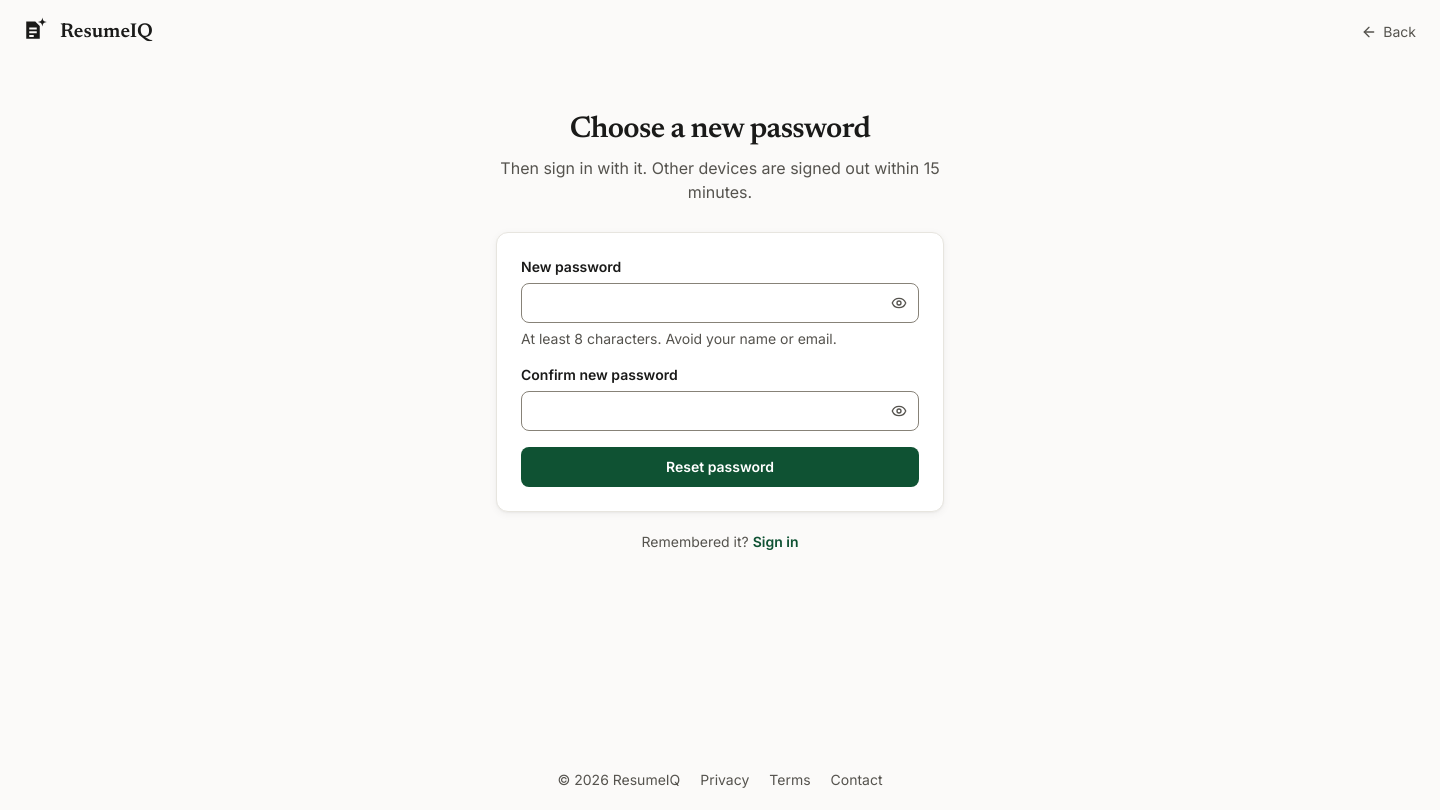
Test: ResetPasswordPage › shows the invalid-link state when the server rejects the link
Type "brand-New-pass-42" into the password field labelled "New password". click: [720, 303]
box: [521,283,919,323]
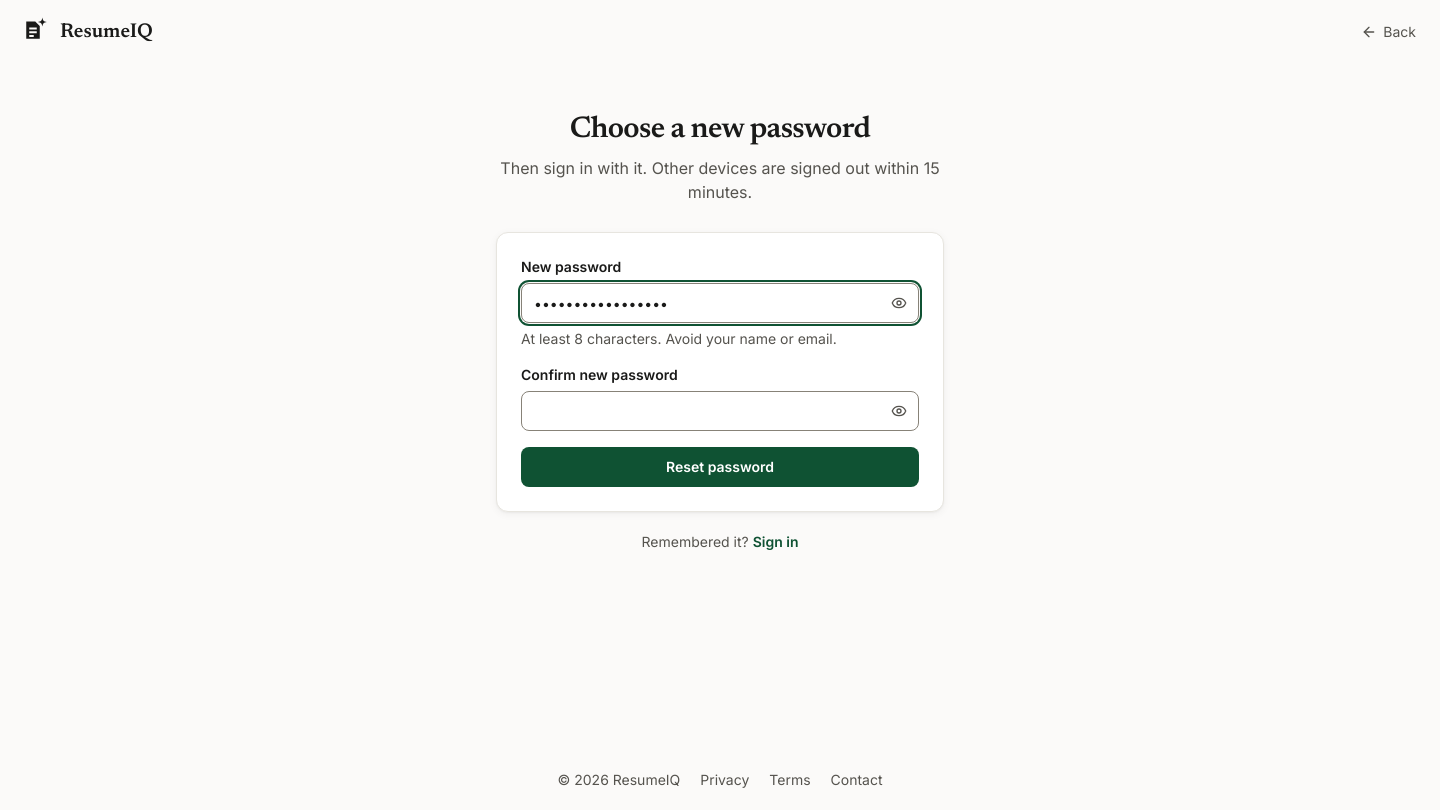
Type "brand-New-pass-42" into the password field labelled "Confirm new password". click: [720, 411]
box: [521,391,919,431]
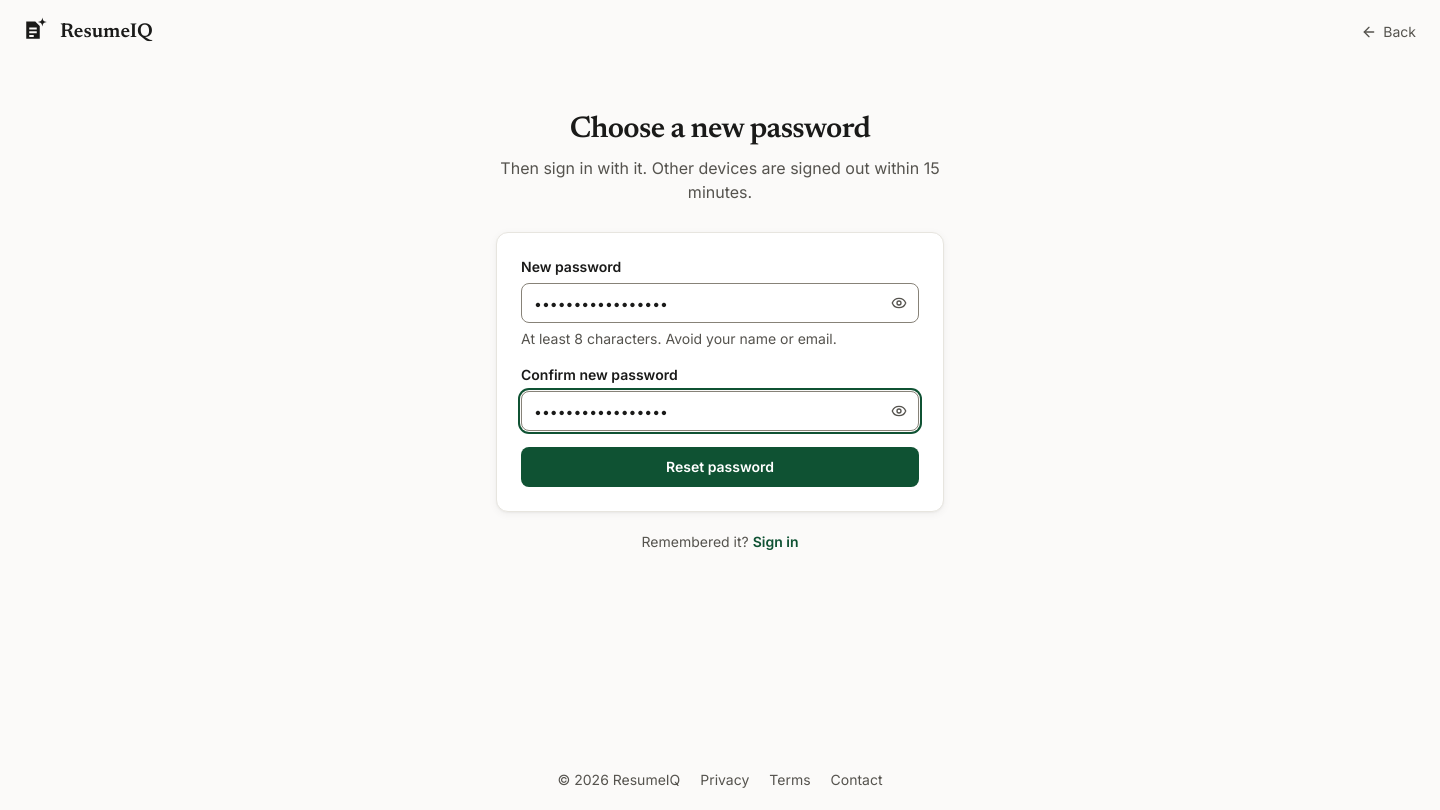
Click the button "Reset password". click: [720, 467]
box: [521,447,919,487]
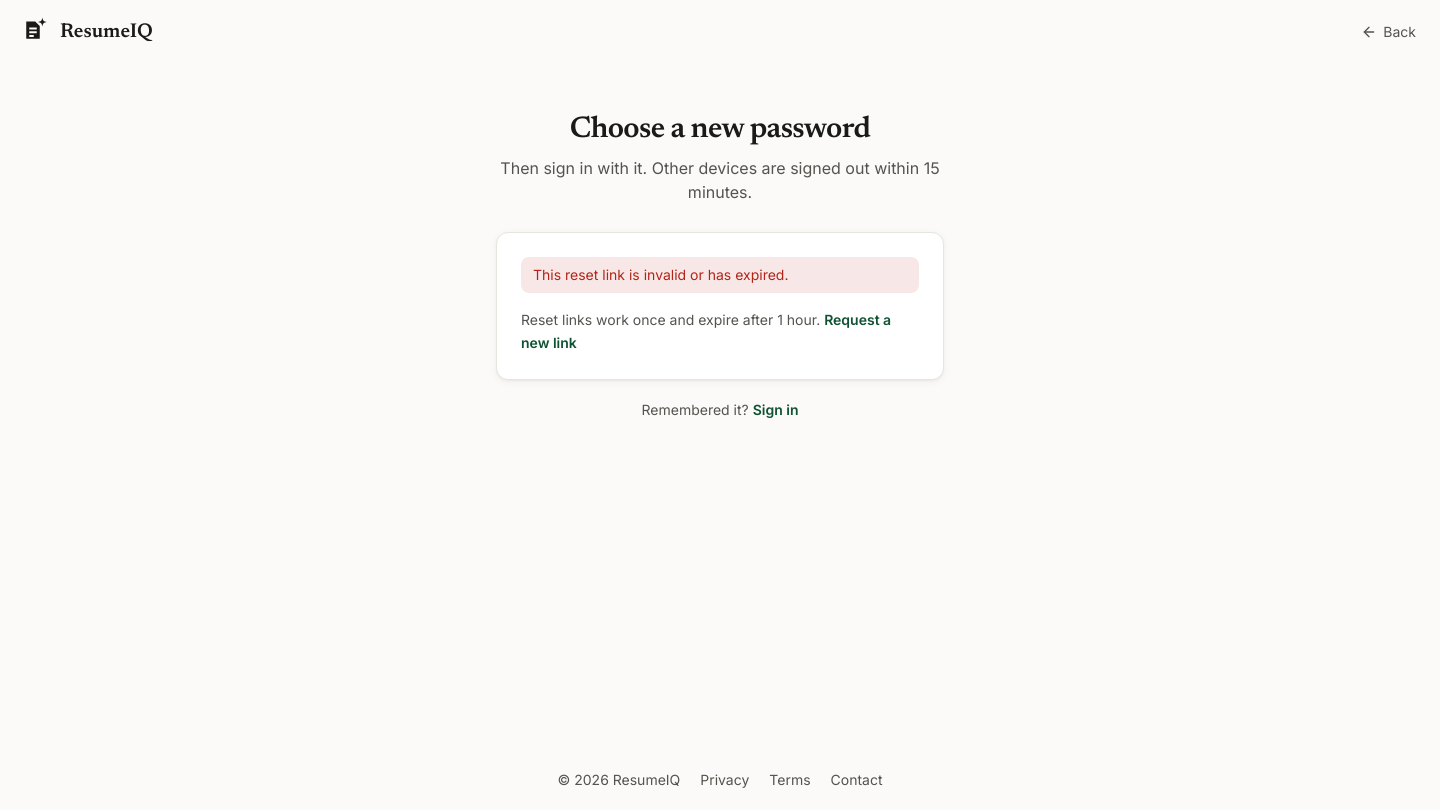
expect the message shows "This reset link is invalid or has expired.": met, box [533,266,788,283]
expect the link "Request a new link" is shown: met, box [521,311,891,351]
